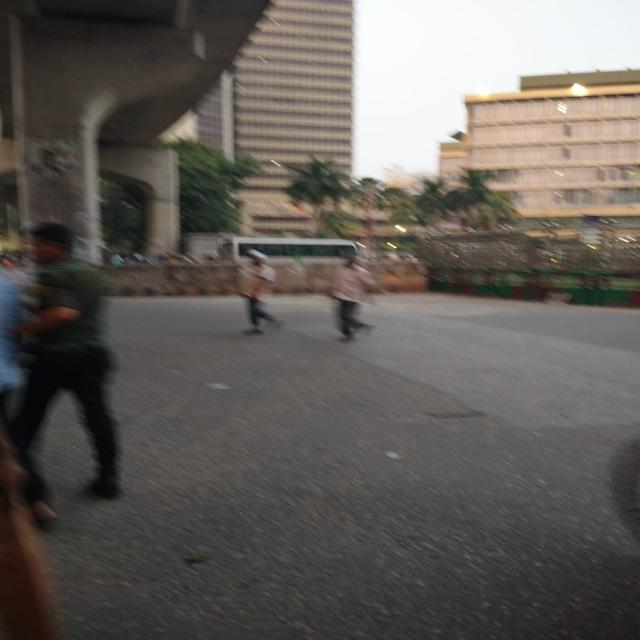person: (1, 223, 127, 501), (233, 247, 282, 336), (329, 250, 378, 337)
